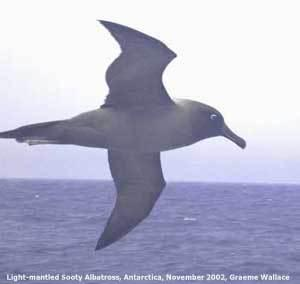003.Sooty_Albatross: (1, 19, 248, 253)
